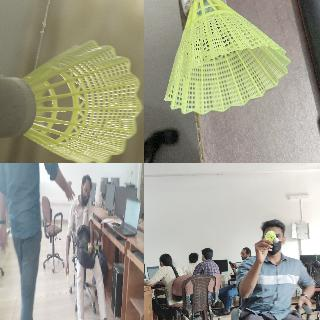shuttlecock: (0, 40, 143, 162), (163, 0, 289, 114), (264, 230, 278, 242), (87, 243, 91, 252)
